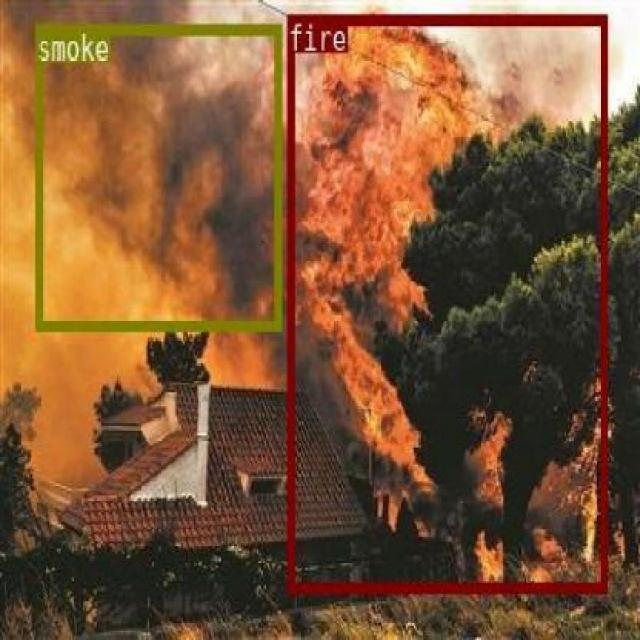Fire: (286, 13, 606, 590)
Smoke: (34, 23, 280, 328)
